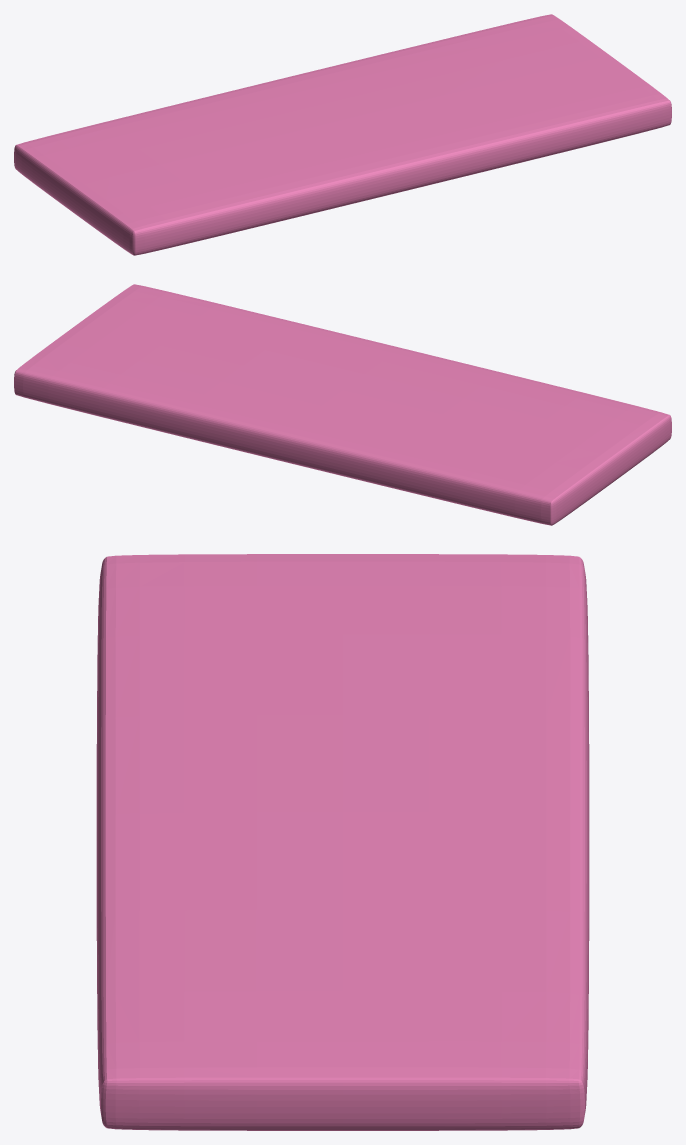
Rendered from Level1-Base-Pink.fbx.
3 views of the same model, one above another, from view 1: azimuth 30°, elevation 25°; view 2: azimuth 150°, elevation 25°; view 3: azimuth 270°, elevation 25° (orthographic). The views are drawn at different scales.
Parts seen in each view (by area): view 1: pCube1; view 2: pCube1; view 3: pCube1.
Part boxes in pixels (box(x1,y1,x2,y2)): pCube1: box(14, 14, 671, 255); pCube1: box(14, 284, 671, 525); pCube1: box(96, 554, 589, 1130).
Size of the model in its own units: 12.99 by 0.6936 by 5.11.
